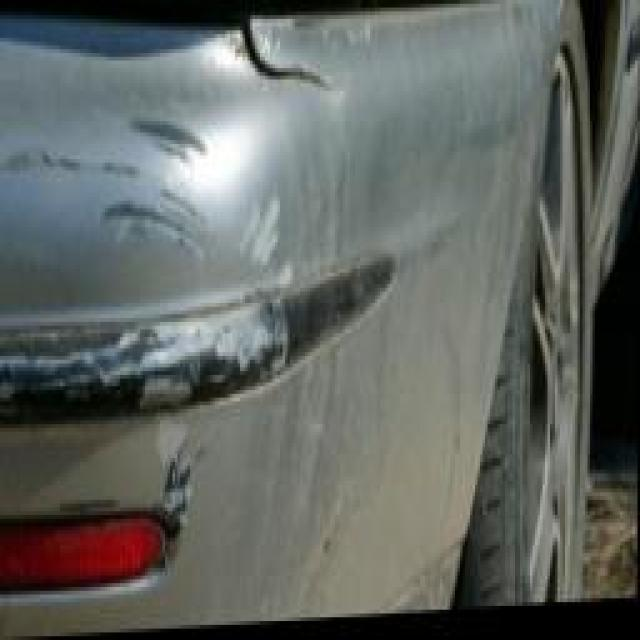Bumper: (0, 15, 368, 640)
